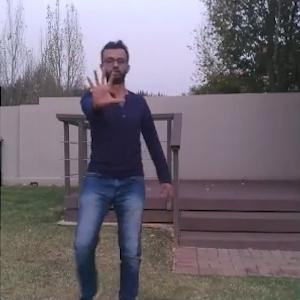follow_hand: (84, 65, 125, 106)
